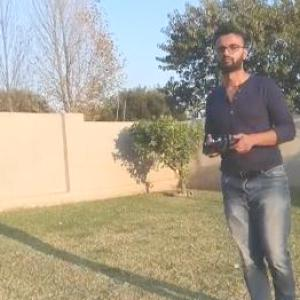follow: (194, 11, 300, 299)
